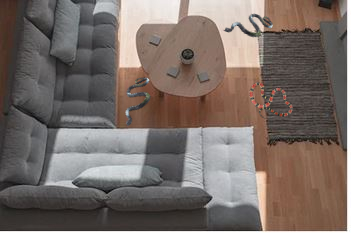snake: (248, 81, 293, 118), (124, 76, 151, 126), (223, 13, 274, 38)
